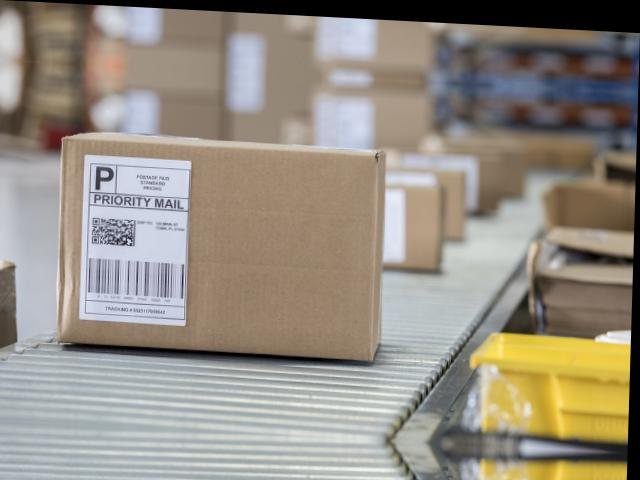label: (72, 152, 202, 333)
package: (54, 127, 389, 366)
